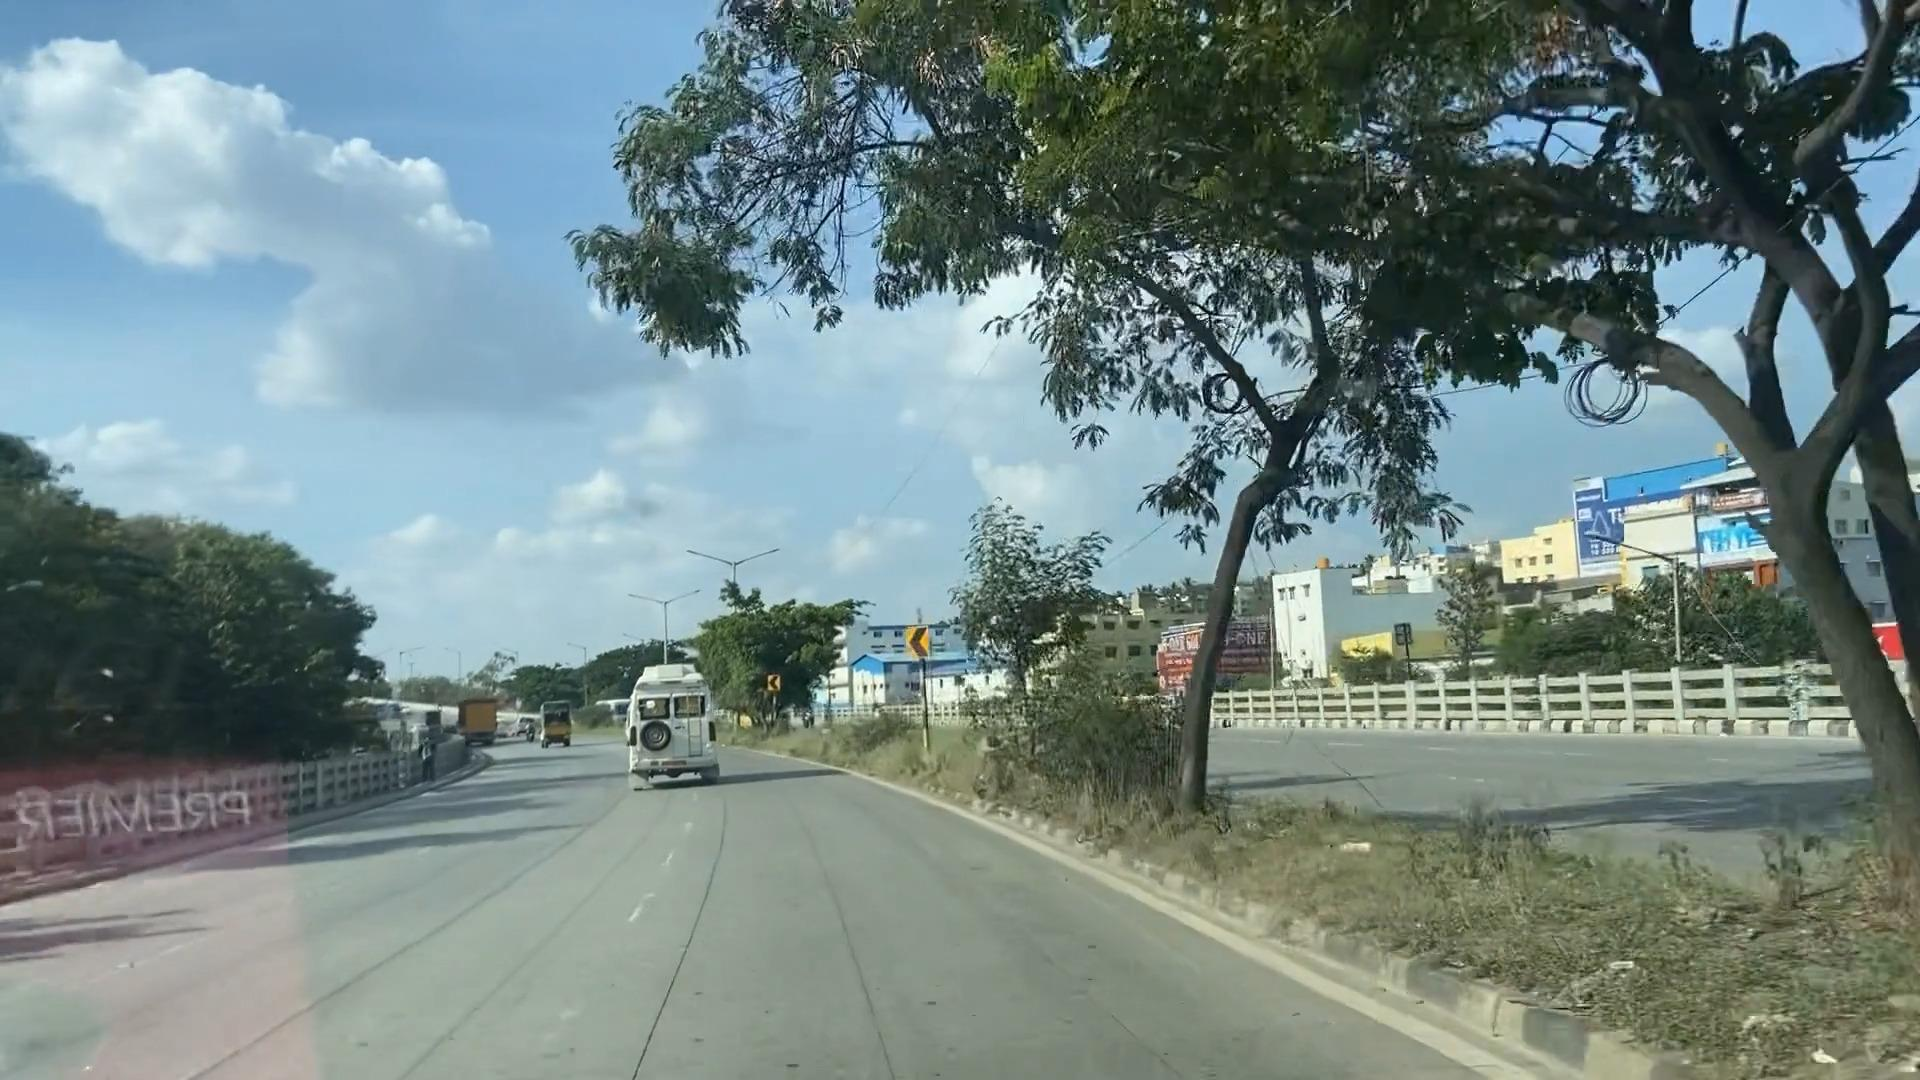HMV: (618, 645, 713, 779)
